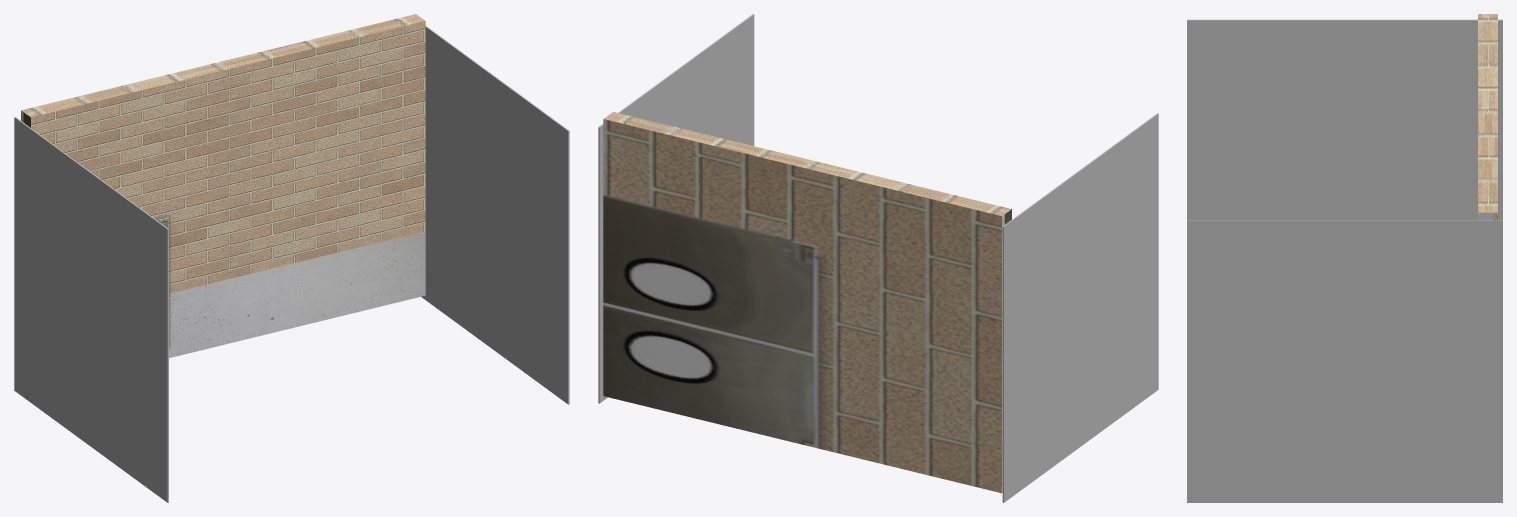
The model's file is pizzaplace_Wall.fbx.
3 views of the same model, side by side, from view 1: azimuth 30°, elevation 25°; view 2: azimuth 150°, elevation 25°; view 3: azimuth 270°, elevation 25° (orthographic). The views are drawn at different scales.
Parts seen in each view (by area): view 1: MuurM, muurL, MuurR; view 2: MuurM, muurL, MuurR; view 3: MuurR, muurL, MuurM.
Part boxes in pixels (bbox=[...]): MuurM: bbox=[21, 14, 425, 357]; muurL: bbox=[14, 117, 168, 502]; MuurR: bbox=[421, 26, 569, 404]; MuurM: bbox=[603, 112, 1011, 493]; muurL: bbox=[1002, 113, 1158, 502]; MuurR: bbox=[598, 14, 754, 403]; MuurR: bbox=[1187, 220, 1502, 502]; muurL: bbox=[1187, 19, 1502, 220]; MuurM: bbox=[1478, 14, 1497, 220].
Bounding box in the file's own units: 833 × 557 × 550.
